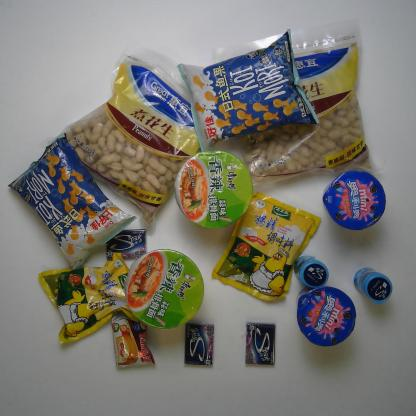Dessert: (322, 170, 386, 230), (296, 286, 356, 345), (110, 309, 156, 369)
Dried Food: (42, 41, 223, 239), (214, 22, 374, 190)
Gum: (354, 267, 392, 305), (184, 321, 215, 366), (244, 322, 276, 365), (105, 228, 146, 260), (294, 256, 328, 288)
Instant Noodles: (125, 249, 204, 329), (175, 150, 252, 228)
Puffed Food: (177, 29, 320, 157), (7, 134, 136, 270)
Seasoner: (212, 191, 321, 302), (38, 252, 140, 343)
